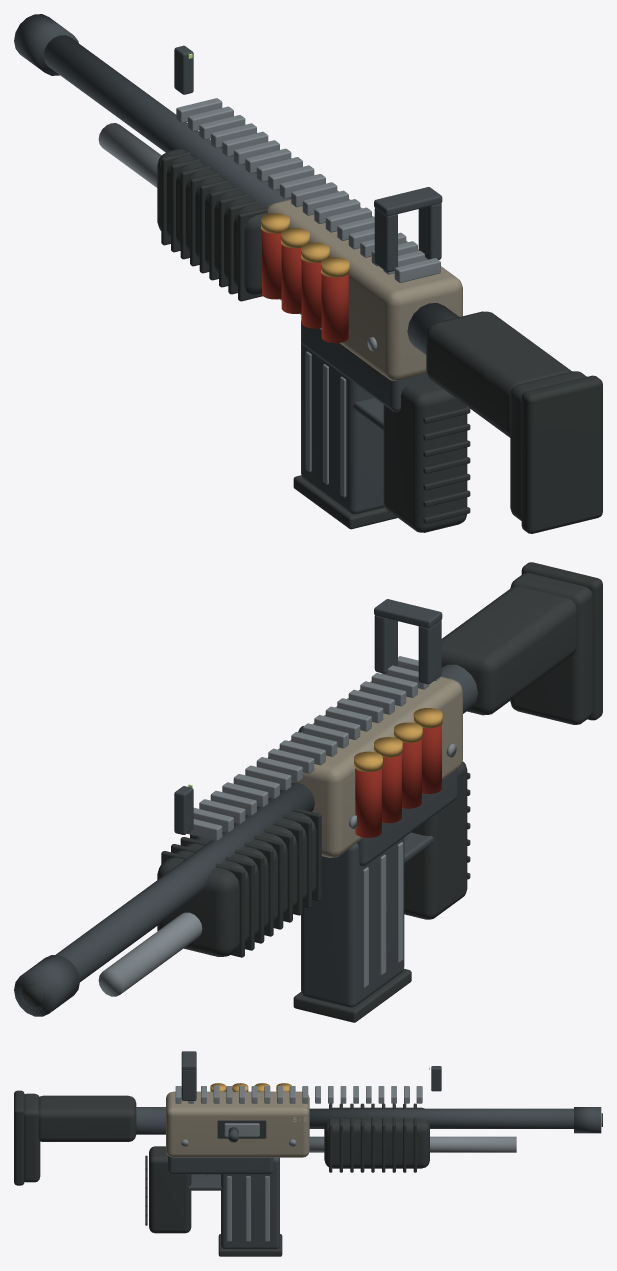
The model's file is shotgun.glb.
The picture shows the model from 3 angles, top to bottom: view 1: azimuth 30°, elevation 25°; view 2: azimuth 150°, elevation 25°; view 3: azimuth 270°, elevation 25°; orthographic projection. The views are drawn at different scales.
Parts seen in each view (by area): view 1: Static, Magazine; view 2: Static, Magazine; view 3: Static, Magazine, Action.
Part boxes in pixels (x1,y1,x2,y2): Static: (14, 14, 602, 533); Magazine: (293, 321, 397, 529); Static: (14, 562, 602, 1016); Magazine: (293, 837, 411, 1022); Static: (14, 1051, 602, 1233); Magazine: (218, 1157, 282, 1256); Action: (224, 1123, 259, 1142).
Bounding box in the file's own units: 0.189 × 0.497 × 1.39.
